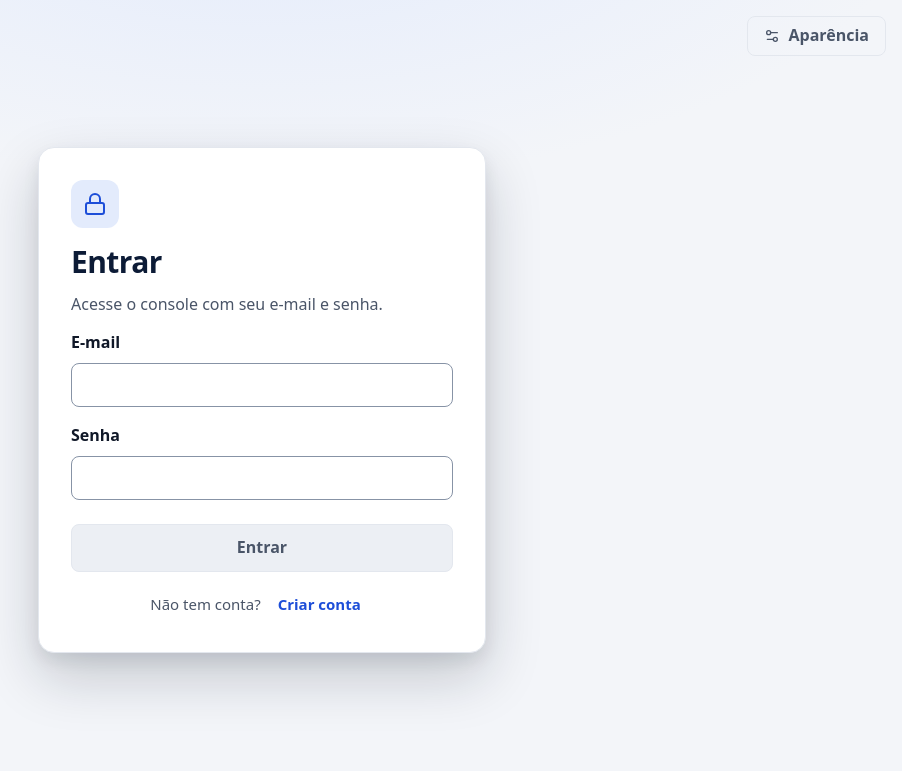
Scenario: login (servidor com banco) › senha errada mostra o motivo e limpa a senha
Type "ana@lexis.dev" into the field labelled "E-mail". click: (262, 385)
box: [71,363,453,407]
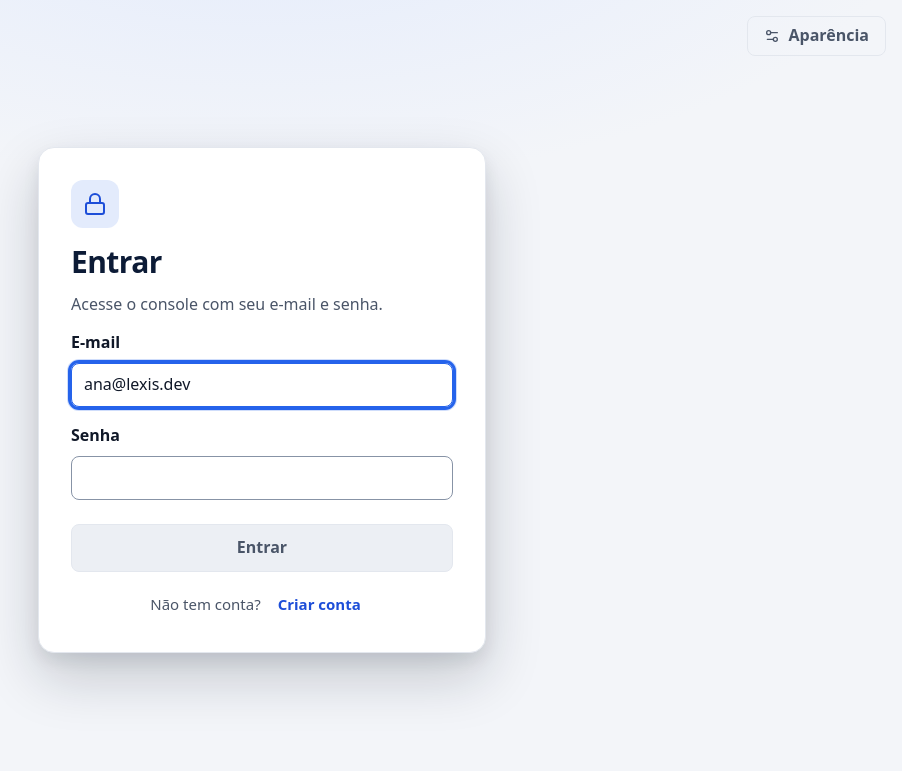
Type "errada-mas-longa" into the password field labelled "Senha". click: (262, 478)
box: [71,456,453,500]
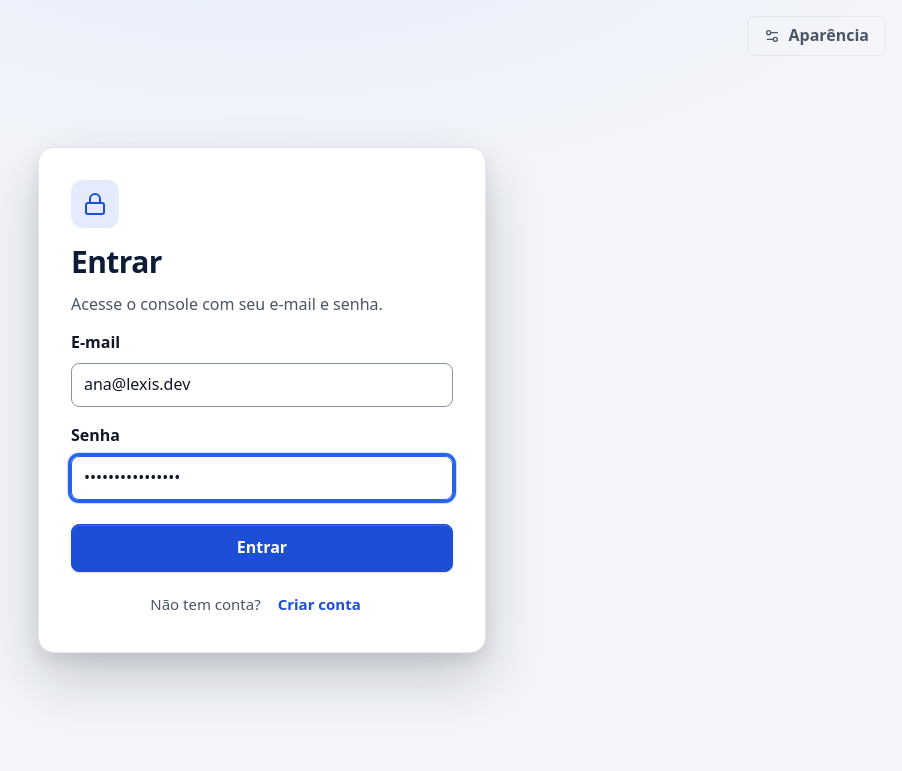
Click the button "Entrar". click: click(262, 548)
box: [71,524,453,572]
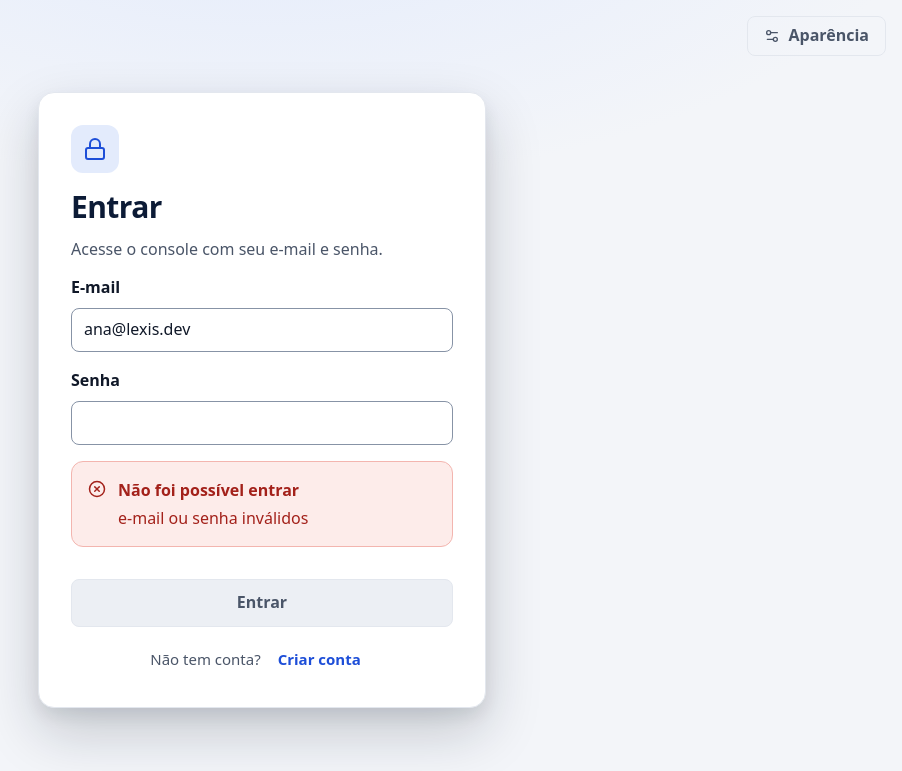
Expected: the message shows "e-mail ou senha inválidos", [118,507,308,529]
Expected: the password field labelled "Senha" is empty, [71,401,453,445]
